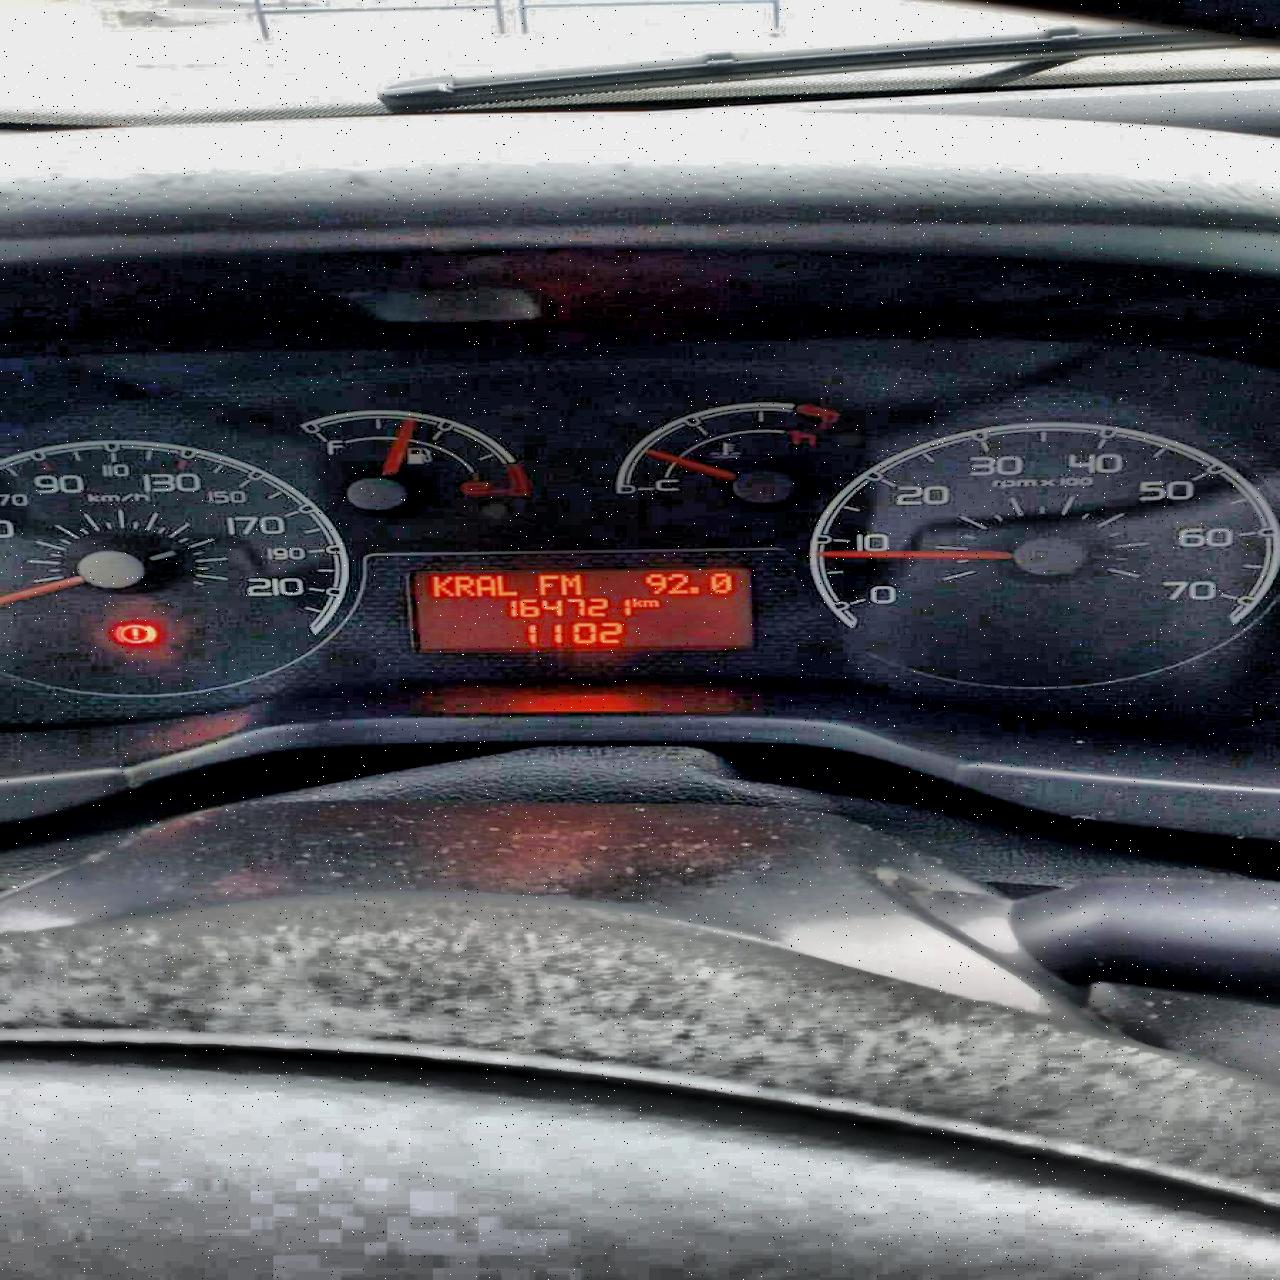-: (688, 585, 701, 594)
0: (570, 620, 597, 646), (708, 572, 734, 597)
1: (524, 621, 539, 645), (551, 621, 564, 645), (508, 598, 517, 619), (621, 597, 631, 617)
2: (598, 620, 622, 644), (586, 597, 611, 618), (666, 572, 688, 594)
4: (539, 598, 563, 615)
6: (518, 597, 539, 617)
7: (565, 598, 585, 617)
9: (642, 571, 666, 595)
X: (452, 574, 475, 598), (560, 573, 585, 594), (430, 574, 452, 597), (496, 574, 517, 595), (536, 573, 556, 594), (476, 574, 495, 597), (642, 598, 661, 607), (631, 597, 642, 607)
odometer: (421, 567, 751, 647)
